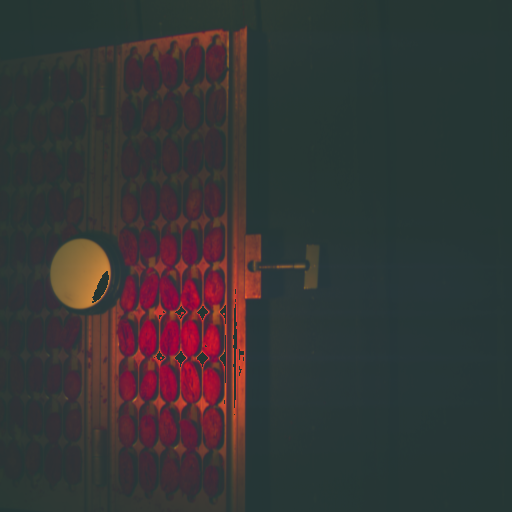bueno: (181, 361, 200, 403), (43, 444, 62, 483), (116, 320, 136, 355), (181, 228, 199, 265), (118, 452, 135, 491), (64, 446, 81, 484), (139, 319, 156, 356), (139, 453, 156, 489), (120, 231, 137, 266), (25, 318, 42, 353), (160, 276, 178, 309), (140, 274, 157, 307), (208, 133, 224, 167), (162, 319, 177, 355), (160, 100, 178, 128), (70, 104, 86, 134), (31, 113, 47, 143), (187, 141, 202, 172), (47, 319, 63, 348), (27, 283, 43, 312), (7, 362, 22, 392), (65, 319, 80, 349), (45, 152, 61, 179), (142, 140, 157, 168), (13, 234, 27, 259), (123, 103, 135, 131), (16, 155, 27, 182), (0, 158, 11, 181)
malo: (202, 368, 222, 405), (207, 45, 225, 82), (204, 323, 221, 357), (120, 277, 137, 311), (162, 140, 179, 174), (184, 94, 200, 129), (182, 321, 198, 355), (64, 369, 82, 399), (143, 100, 159, 133), (48, 188, 64, 221), (140, 416, 157, 446), (141, 185, 156, 219), (161, 235, 177, 266), (205, 466, 221, 496), (119, 373, 136, 401), (46, 364, 61, 393), (141, 373, 157, 400), (30, 153, 44, 182), (47, 414, 62, 441), (51, 109, 66, 136), (15, 117, 29, 142), (0, 79, 10, 111)
parcial: (185, 44, 204, 84), (159, 363, 177, 404), (181, 455, 199, 494), (204, 409, 222, 448), (207, 88, 225, 123), (159, 413, 178, 446), (204, 182, 222, 216), (121, 143, 138, 177), (204, 229, 222, 261), (206, 272, 223, 305), (179, 418, 199, 446), (143, 57, 160, 89), (182, 280, 200, 310), (161, 458, 177, 491), (140, 228, 158, 257), (66, 150, 82, 181), (65, 409, 81, 440), (28, 402, 44, 432), (50, 72, 67, 100), (120, 416, 136, 445), (163, 58, 179, 86), (162, 187, 176, 219), (28, 360, 42, 392), (121, 191, 136, 220), (186, 189, 201, 218), (31, 74, 46, 103), (67, 197, 83, 224), (125, 60, 140, 87), (31, 197, 46, 224), (14, 77, 28, 105), (69, 72, 83, 98), (13, 281, 26, 309), (15, 199, 29, 224), (30, 238, 43, 263), (11, 324, 23, 350), (26, 453, 39, 476), (10, 457, 23, 479), (10, 400, 22, 422)
